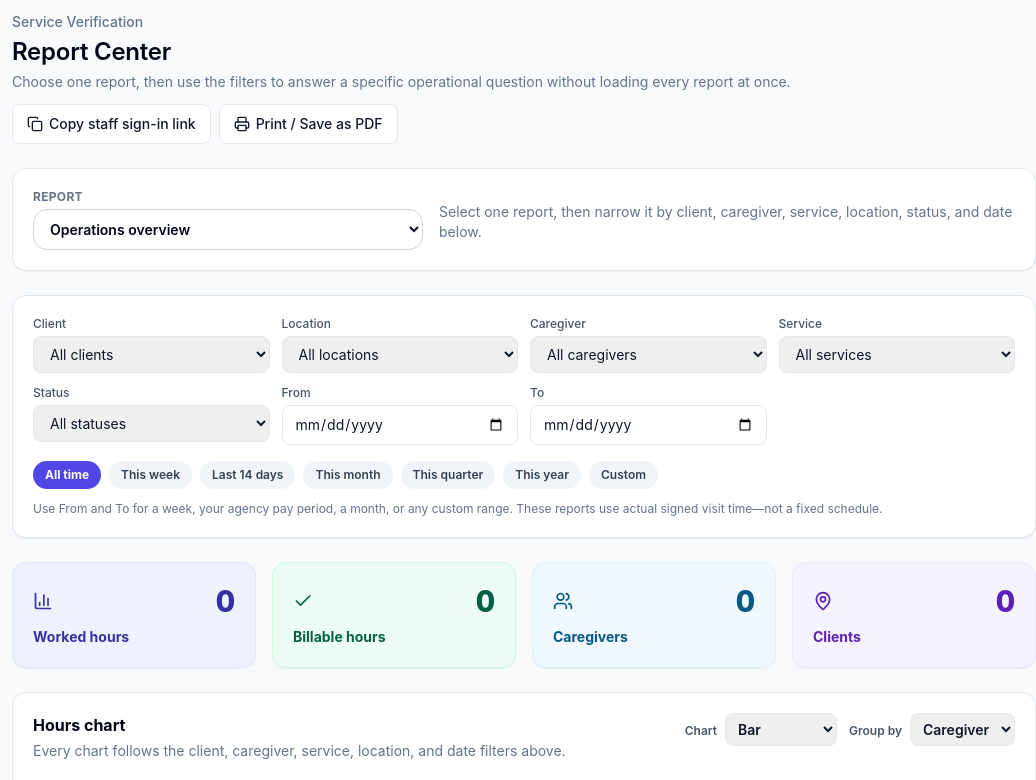
Test: ServiceVerificationReportsPage › shows exception visits flagged for review, correction, or over-authorization, but not a plain signed visit
This screenshot has width=1036, height=780.
Select "Exceptions needing attention" in the dropdown labelled "Report" at (228, 230), box [33,209,423,250]
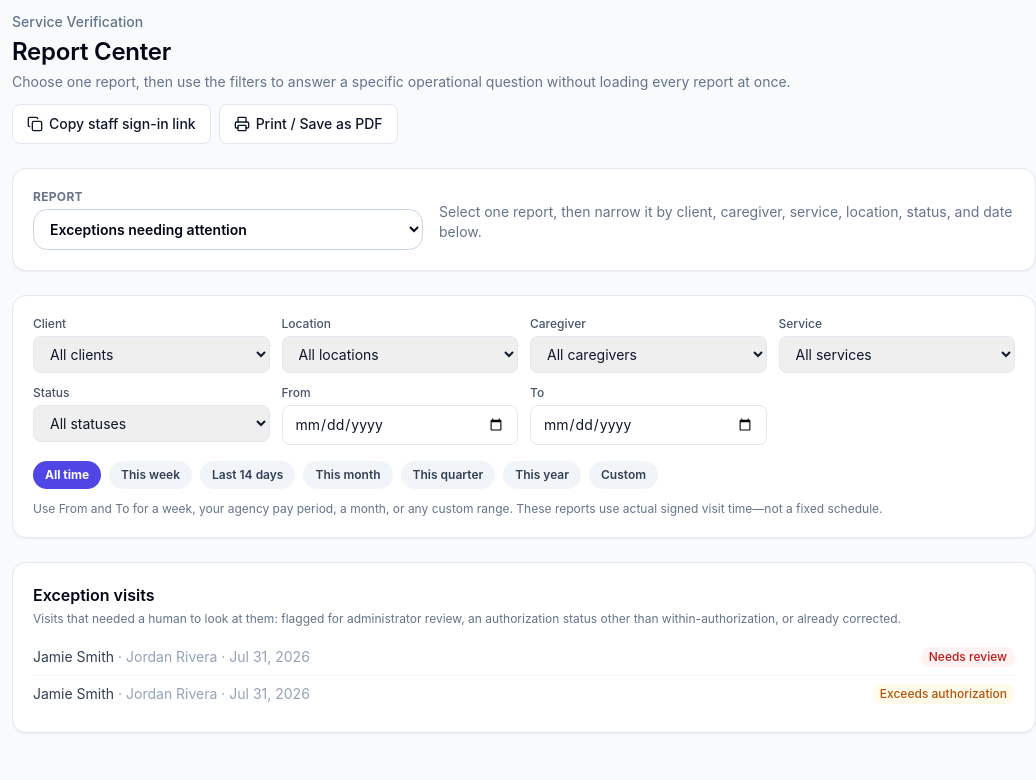
Check: the heading "Exception visits" is shown, box [33,585,154,605]
Check: the text "Needs review" is shown, box [921,647,1015,667]
Check: the text "Exceeds authorization" is shown, box [872,684,1015,704]
